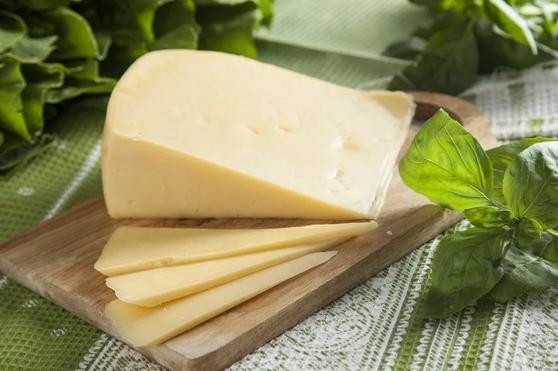cheese: (102, 42, 409, 224)
